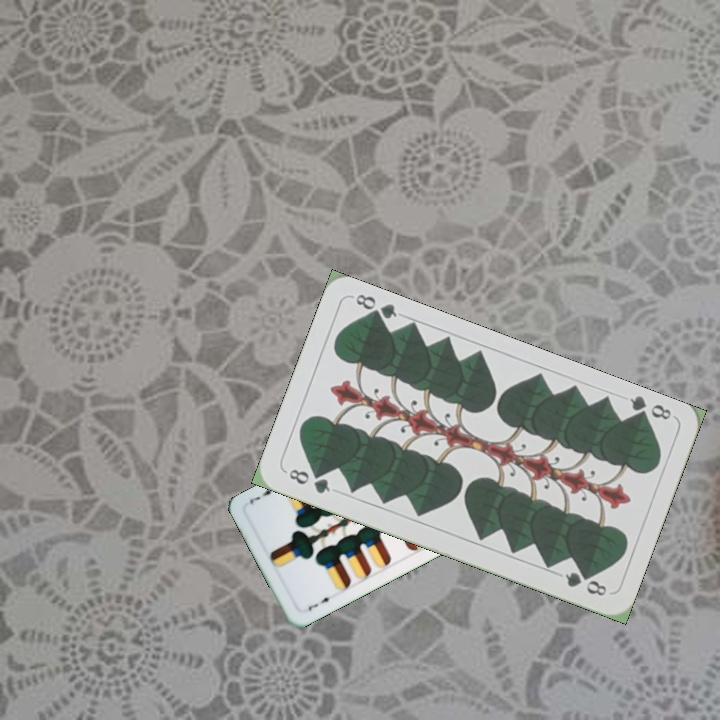E7: (304, 593, 337, 613)
G8: (625, 392, 674, 426), (282, 465, 333, 497)
